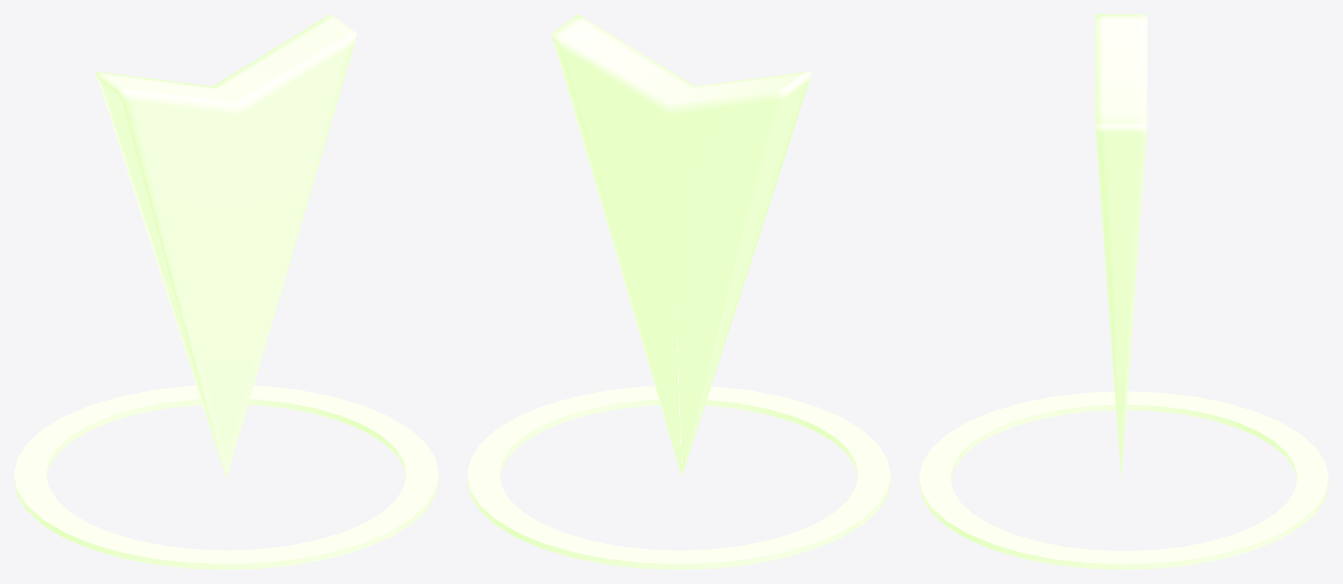
File: pointer.gltf
3 views of the same model, side by side, from view 1: azimuth 30°, elevation 25°; view 2: azimuth 150°, elevation 25°; view 3: azimuth 270°, elevation 25° (orthographic). The views are drawn at different scales.
Visible parts, largest first — view 1: Pyramid001, Circle001; view 2: Pyramid001, Circle001; view 3: Circle001, Pyramid001.
Part boxes in pixels (x1=…): Pyramid001: x1=95, y1=14, x2=357, y2=478; Circle001: x1=14, y1=385, x2=438, y2=569; Pyramid001: x1=551, y1=14, x2=811, y2=476; Circle001: x1=467, y1=386, x2=890, y2=569; Circle001: x1=919, y1=391, x2=1328, y2=569; Pyramid001: x1=1095, y1=14, x2=1147, y2=477.
Size of the model in its own units: 11.84 by 13.19 by 11.84.
